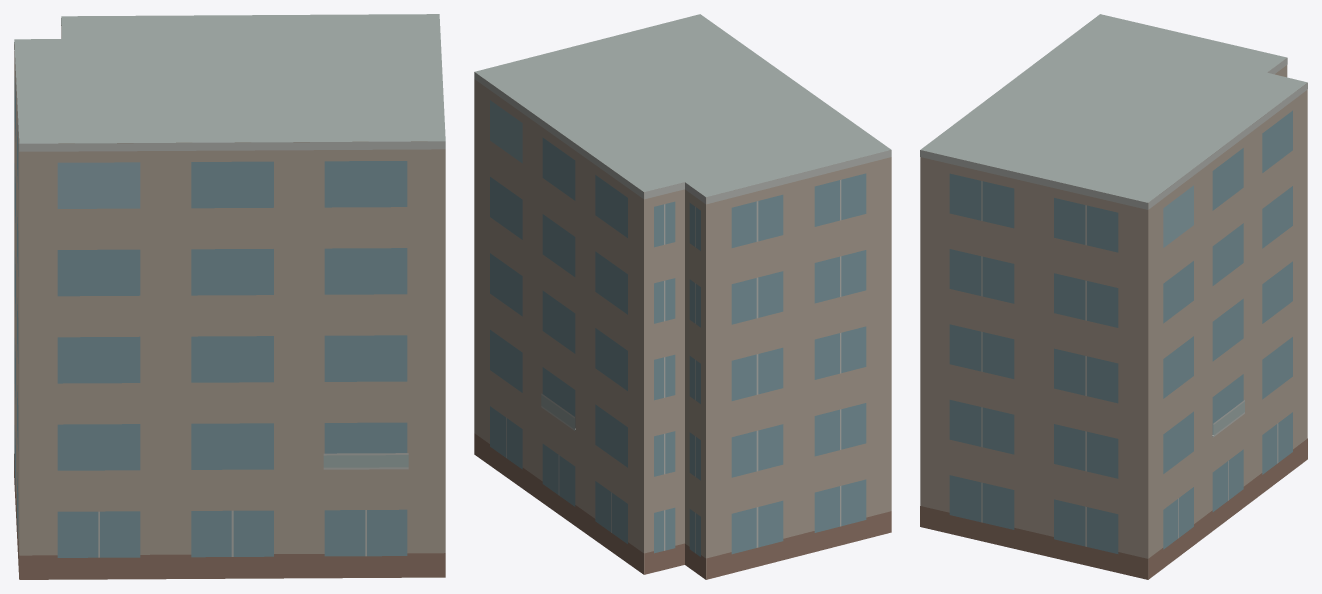
Rendered from survey-upis-32656138.glb.
The picture shows the model from 3 angles, left to right: view 1: azimuth 30°, elevation 25°; view 2: azimuth 150°, elevation 25°; view 3: azimuth 270°, elevation 25°; orthographic projection. The views are drawn at different scales.
Parts seen in each view (by area): view 1: survey-upis-32656138.tmp; view 2: survey-upis-32656138.tmp; view 3: survey-upis-32656138.tmp.
Boxes of the visible parts, box(x1,y1,x2,y2) form: survey-upis-32656138.tmp: box(14, 14, 445, 579); survey-upis-32656138.tmp: box(474, 14, 891, 579); survey-upis-32656138.tmp: box(920, 14, 1307, 579).
Size of the model in its own units: 14.04 by 13.05 by 12.17.
